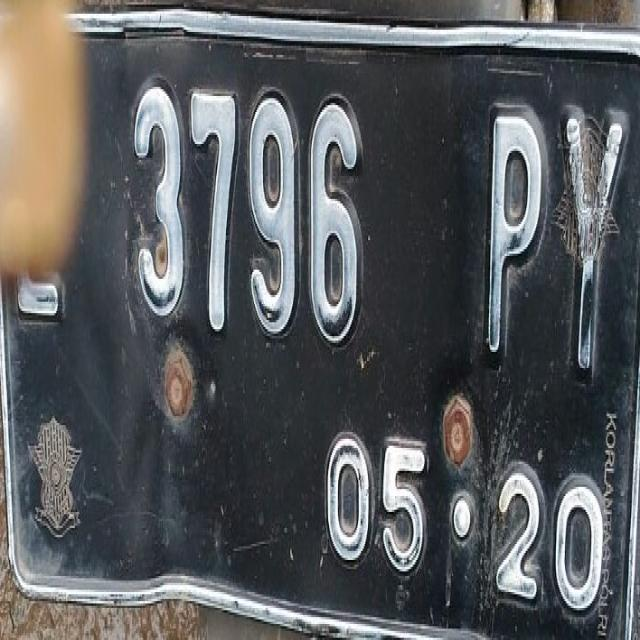plate: (0, 16, 635, 640)
